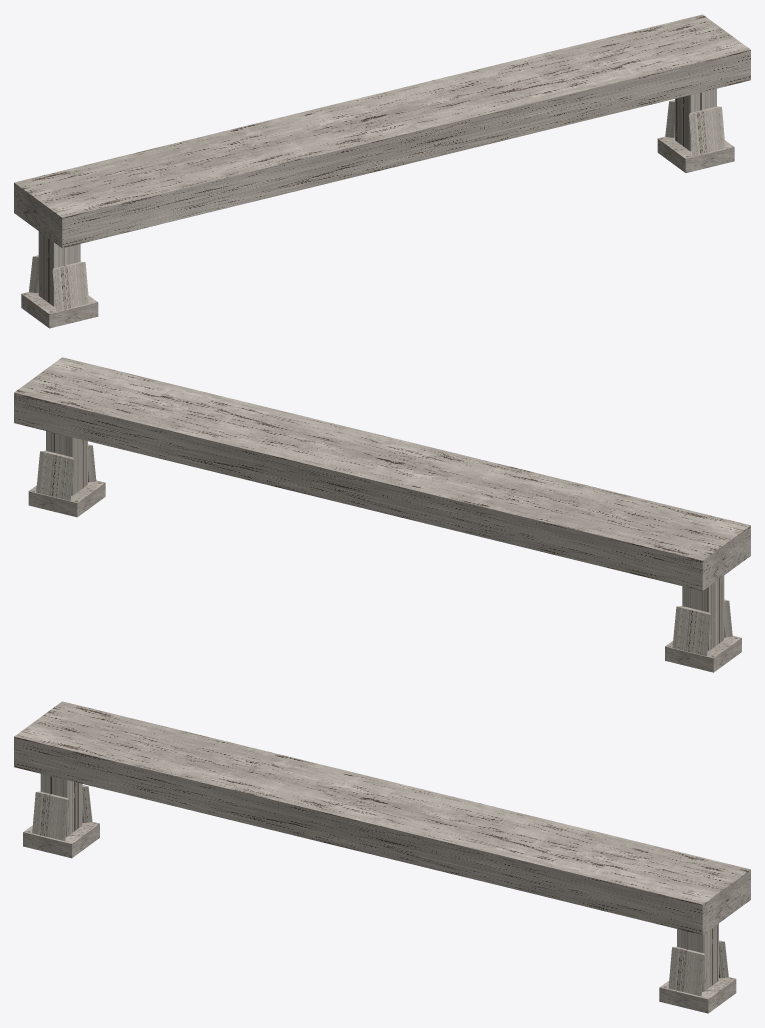
Rendered from average_bord.fbx.
The picture shows the model from 3 angles, top to bottom: view 1: azimuth 30°, elevation 25°; view 2: azimuth 150°, elevation 25°; view 3: azimuth 330°, elevation 25°; orthographic projection.
Parts seen in each view (by area): view 1: Cube; view 2: Cube; view 3: Cube.
Part boxes in pixels (x1,y1,x2,y2): Cube: (14, 14, 750, 328); Cube: (14, 357, 750, 672); Cube: (14, 701, 750, 1013).
Size of the model in its own units: 747 by 122 by 90.45.
Materials: 1 (1 with a texture image).
